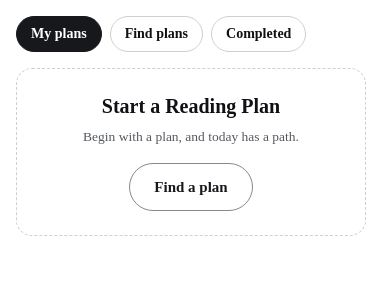
Test: the language of a plan › names English on a plan with no Telugu in a Telugu app, and on no other
Click the button with test id "plans-chip-find" at (156, 34), box [110, 16, 203, 52]
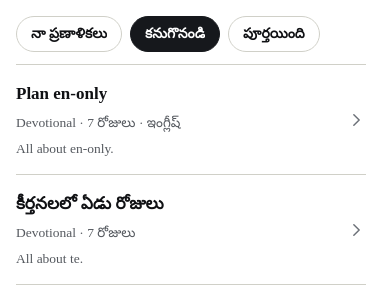
Expected: the button with test id "plan-te" does not show "ఇంగ్లీష్", [16, 175, 366, 285]
Result: the button with test id "plan-en-only" shows "ఇంగ్లీష్" at [16, 65, 366, 175]
